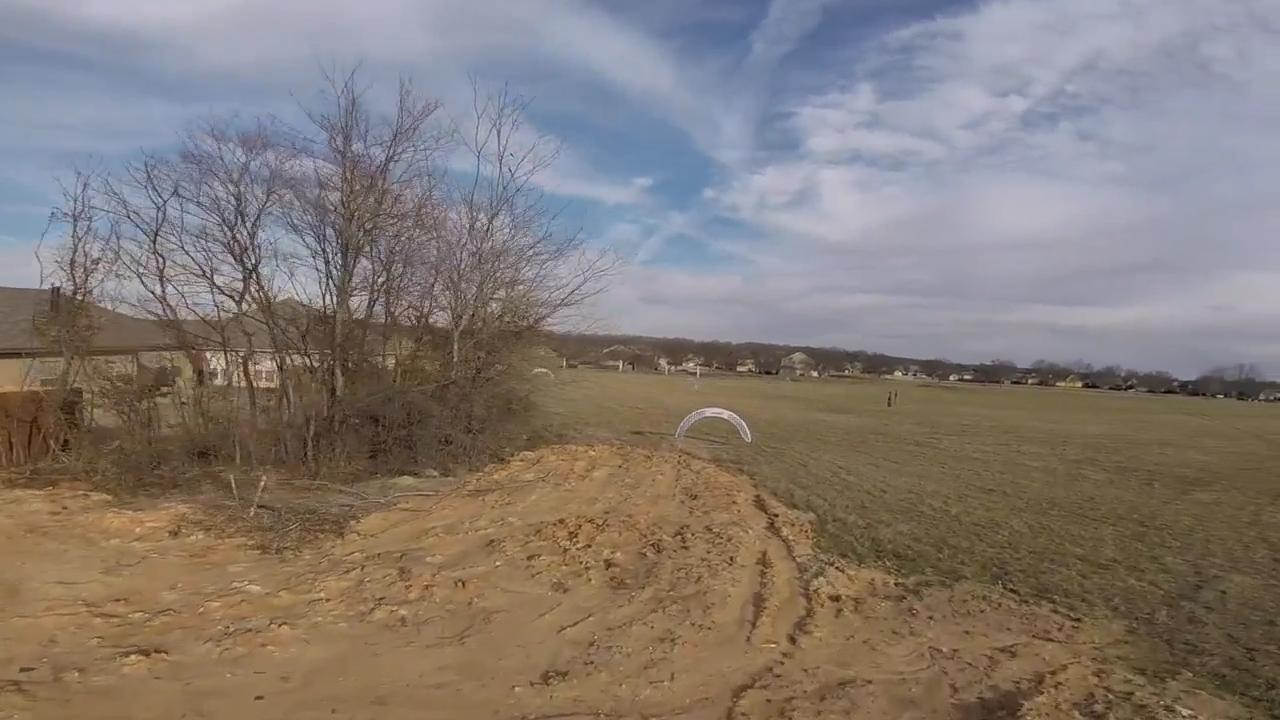gate: (668, 404, 756, 445)
